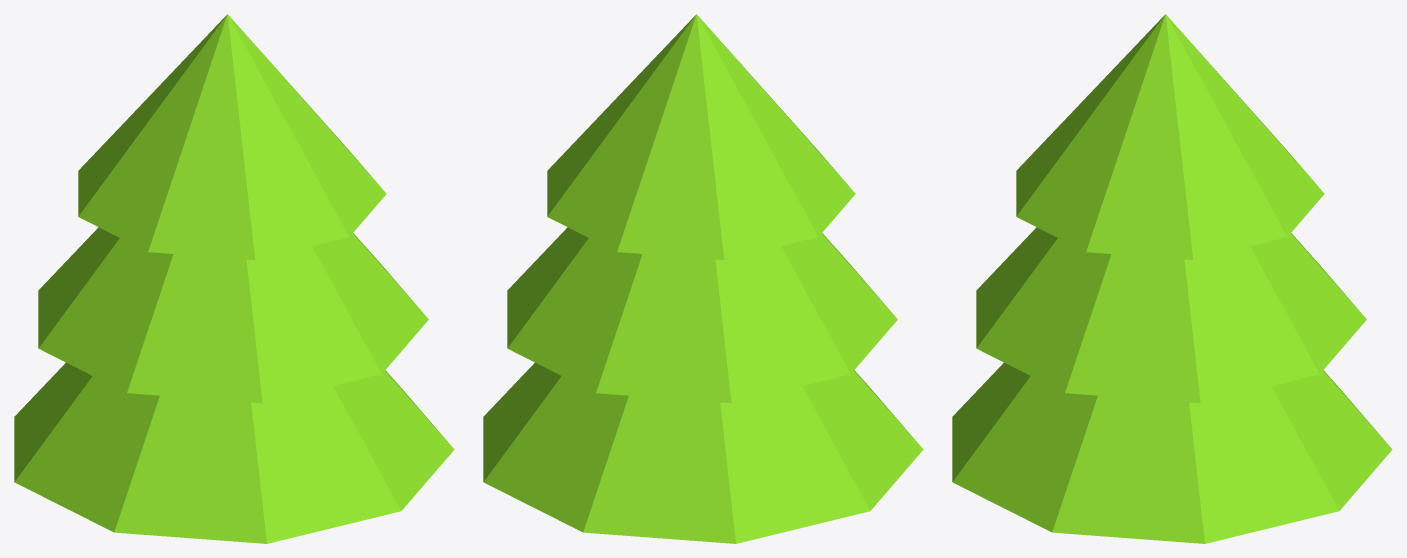
File: FirTree.fbx
3 views of the same model, side by side, from view 1: azimuth 30°, elevation 25°; view 2: azimuth 150°, elevation 25°; view 3: azimuth 270°, elevation 25° (orthographic).
Parts seen in each view (by area): view 1: Cone; view 2: Cone; view 3: Cone.
Boxes of the visible parts, x1,y1,x2,y2 form: Cone: (14,14,454,543); Cone: (483,14,923,543); Cone: (952,14,1392,543).
Bounding box in the file's own units: 113 × 144 × 112.
